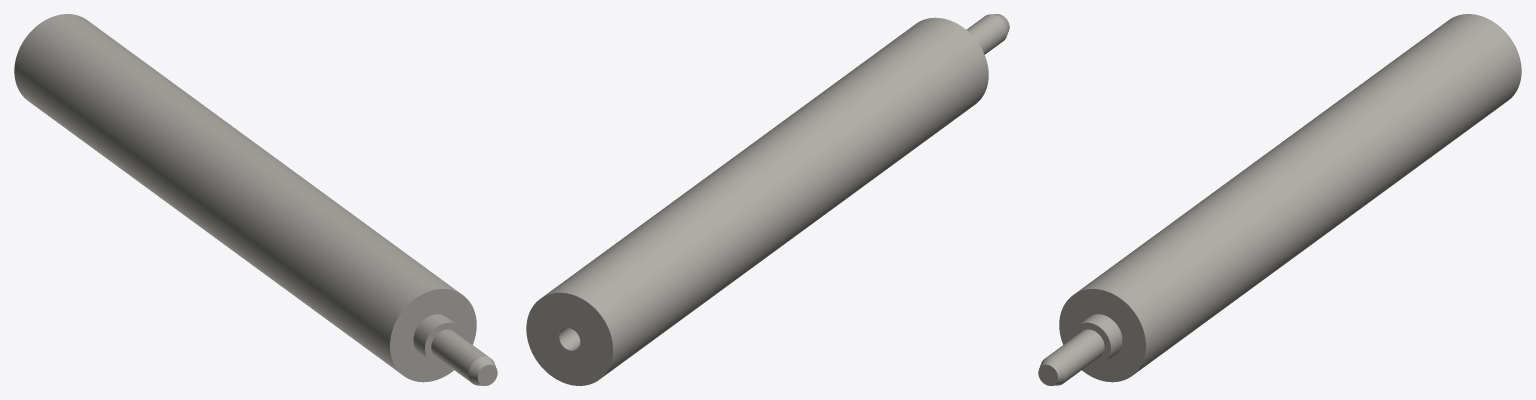
File: 68-04556-RA_Kinect_Standoff_Assy.dae
The picture shows the model from 3 angles, left to right: view 1: azimuth 30°, elevation 25°; view 2: azimuth 150°, elevation 25°; view 3: azimuth 330°, elevation 25°; orthographic projection.
Visible parts, largest first — view 1: node; view 2: node; view 3: node.
Boxes of the visible parts, x1,y1,x2,y2 form: node: [14, 14, 497, 385]; node: [526, 14, 1009, 385]; node: [1038, 14, 1521, 385].
Bounding box in the file's own units: 11.11 × 11.11 × 95.38.
Materials: 1 (1 with a texture image).
